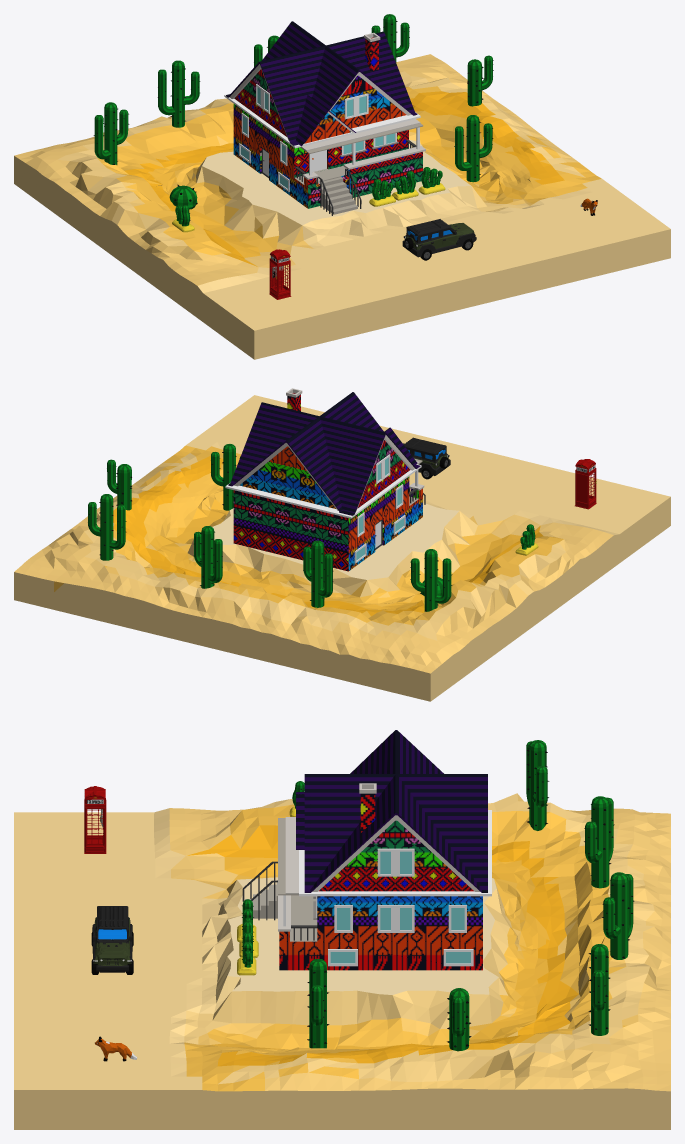
3 views of the same model, one above another, from view 1: azimuth 30°, elevation 25°; view 2: azimuth 150°, elevation 25°; view 3: azimuth 270°, elevation 25° (orthographic). The views are drawn at different scales.
Parts seen in each view (by area): view 1: Cube.001, Cube.966, VEHICLES_JEEP, Cylinder.037, Cylinder.044, Cylinder.045, OBJRANDOM_PHONEBOOTH, Cylinder.038, Cylinder.042, Cylinder.039, Cylinder.041, Sphere.023 (+1 smaller); view 2: Cube.001, Cube.966, Cylinder.042, Cylinder.045, Cylinder.044, Cylinder.043, VEHICLES_JEEP, Cylinder.037, OBJRANDOM_PHONEBOOTH, Cylinder.038; view 3: Cube.001, Cube.966, VEHICLES_JEEP, Cylinder.043, Cylinder.044, Cylinder.045, Cylinder.042, Cylinder.037, OBJRANDOM_PHONEBOOTH, Cylinder.038, Cylinder.041.
Boxes of the visible parts, <box> form: Cube.001: <box>14,54,670,359</box>; Cube.966: <box>224,21,425,215</box>; VEHICLES_JEEP: <box>402,219,476,260</box>; Cylinder.037: <box>454,115,493,182</box>; Cylinder.044: <box>157,60,200,127</box>; Cylinder.045: <box>93,102,129,164</box>; OBJRANDOM_PHONEBOOTH: <box>269,249,291,299</box>; Cylinder.038: <box>467,55,493,106</box>; Cylinder.042: <box>371,14,409,62</box>; Cylinder.039: <box>369,179,395,206</box>; Cylinder.041: <box>418,167,445,194</box>; Sphere.023: <box>169,184,197,209</box>; Cube.001: <box>14,395,670,701</box>; Cube.966: <box>225,388,425,571</box>; Cylinder.042: <box>88,494,126,560</box>; Cylinder.045: <box>410,549,452,611</box>; Cylinder.044: <box>303,540,333,607</box>; Cylinder.043: <box>193,526,222,588</box>; VEHICLES_JEEP: <box>403,437,450,479</box>; Cylinder.037: <box>211,444,240,510</box>; OBJRANDOM_PHONEBOOTH: <box>575,459,596,509</box>; Cylinder.038: <box>107,459,131,510</box>; Cube.001: <box>14,793,670,1129</box>; Cube.966: <box>242,730,491,970</box>; VEHICLES_JEEP: <box>91,906,133,974</box>; Cylinder.043: <box>602,872,634,959</box>; Cylinder.044: <box>584,796,614,888</box>; Cylinder.045: <box>526,740,549,830</box>; Cylinder.042: <box>588,944,610,1035</box>; Cylinder.037: <box>307,959,329,1048</box>; OBJRANDOM_PHONEBOOTH: <box>84,786,106,853</box>; Cylinder.038: <box>447,988,471,1051</box>; Cylinder.041: <box>237,932,256,975</box>.
Size of the model in its own units: 4002 by 1600 by 4001.
Materials: 41 (6 with a texture image).
